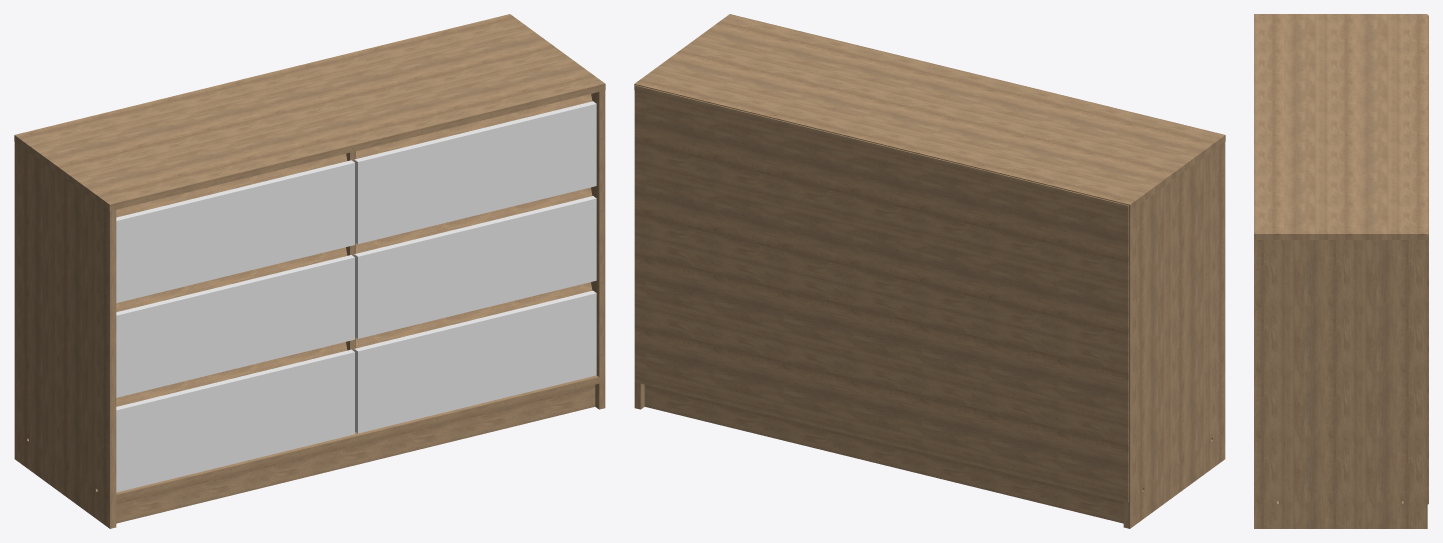
The picture shows the model from 3 angles, left to right: view 1: azimuth 30°, elevation 25°; view 2: azimuth 150°, elevation 25°; view 3: azimuth 270°, elevation 25°; orthographic projection. The views are drawn at different scales.
Parts seen in each view (by area): view 1: A008395-TAPASXXXTAPA, Simetr적008395-COSTADOSCOST, A008395-FRENTESXCADE002, A008395-FRENTESXCADE001, A008395-FRENTESXCADE, A008395-FRENTESXCAIZ001, A008395-FRENTESXCAIZ, A008395-FRENTESXCAIZ002, A008395-ZOCALOSXZOCA, A008395-PISOSXXXFREN, A008395-COSTADOSCOST, A008395-FAJASXXXFREN001 (+5 smaller); view 2: A008395-FONDOSXXMUEB, A008395-FONDOSXXMUEB001, A008395-TAPASXXXTAPA, Simetr적008395-COSTADOSCOST, A008395-ZOCALOSXZOCA001; view 3: A008395-COSTADOSCOST, A008395-TAPASXXXTAPA, A008395-FONDOSXXMUEB, A008395-FONDOSXXMUEB001.
Boxes of the visible parts, x1,y1,x2,y2 form: A008395-TAPASXXXTAPA: (14, 14, 605, 210); Simetr적008395-COSTADOSCOST: (14, 142, 116, 528); A008395-FRENTESXCADE002: (354, 101, 596, 243); A008395-FRENTESXCADE001: (354, 196, 596, 338); A008395-FRENTESXCADE: (354, 290, 596, 433); A008395-FRENTESXCAIZ001: (116, 255, 354, 397); A008395-FRENTESXCAIZ: (116, 349, 354, 492); A008395-FRENTESXCAIZ002: (116, 160, 354, 302); A008395-ZOCALOSXZOCA: (116, 385, 595, 523); A008395-PISOSXXXFREN: (116, 375, 599, 501); A008395-COSTADOSCOST: (591, 90, 605, 409); A008395-FAJASXXXFREN001: (356, 187, 592, 253); A008395-FONDOSXXMUEB: (634, 85, 1128, 353); A008395-FONDOSXXMUEB001: (634, 234, 1128, 502); A008395-TAPASXXXTAPA: (634, 14, 1225, 210); Simetr적008395-COSTADOSCOST: (1123, 142, 1225, 528); A008395-ZOCALOSXZOCA001: (644, 385, 1123, 523); A008395-COSTADOSCOST: (1254, 240, 1427, 528); A008395-TAPASXXXTAPA: (1254, 14, 1427, 239); A008395-FONDOSXXMUEB: (1427, 15, 1428, 369); A008395-FONDOSXXMUEB001: (1427, 369, 1428, 504).
Bounding box in the file's own units: 1.2 × 0.75 × 0.403.
Materials: 2 (1 with a texture image).
